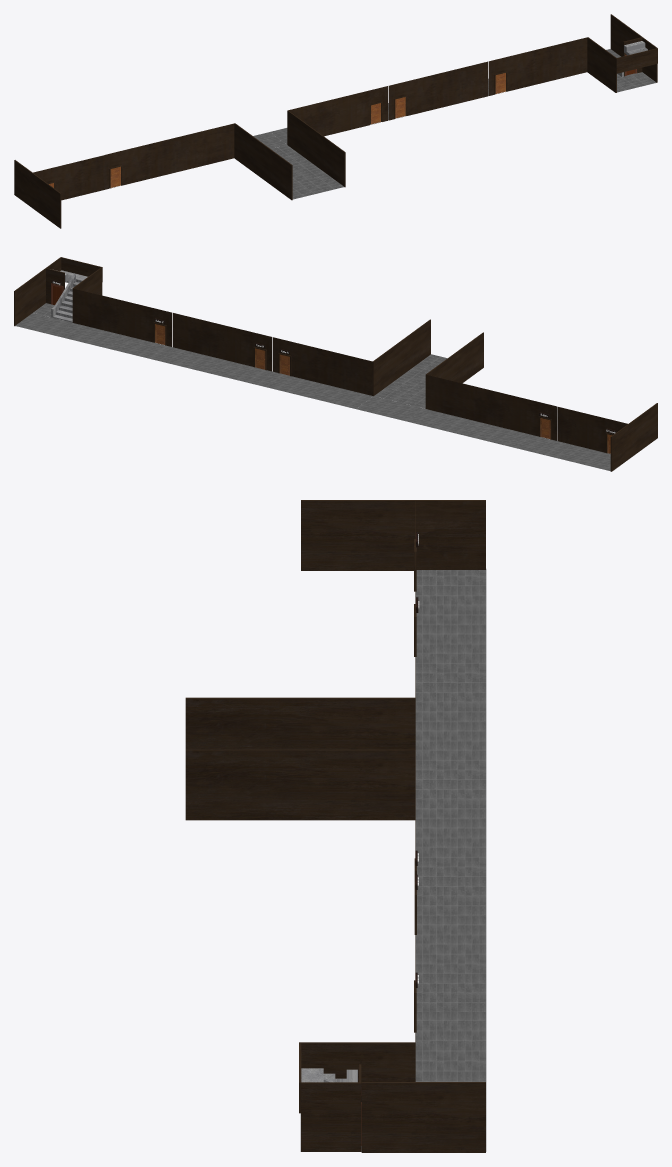
Rendered from interior_lorong.fbx.
3 views of the same model, one above another, from view 1: azimuth 30°, elevation 25°; view 2: azimuth 150°, elevation 25°; view 3: azimuth 270°, elevation 25° (orthographic). The views are drawn at different scales.
Visible parts, largest first — view 1: Cube.043, Cube.025, Cube.003, Cube.018, Cube.042, Cube.001, Cube.105, Cube.106, Plane.001, Cube.036, Cube.038, Cube.041 (+2 smaller); view 2: Cube.043, Cube.025, Cube.018, Cube.003, Cube.001, Cube.105, Plane.004, Plane.009, Plane.011, Plane.002, Plane.003, Cube.106 (+10 smaller); view 3: Cube.001, Cube.106, Cube.042, Cube.041, Plane.009, Plane.011, Plane.002, Plane.003, Plane.004, Cube.039, Cube.036, Plane.013.
Part boxes in pixels (box(x1,y1,x2,y2)): Cube.043: box(103, 123, 234, 189); Cube.025: box(488, 37, 587, 95); Cube.003: box(388, 61, 487, 120); Cube.018: box(288, 86, 387, 136); Cube.042: box(234, 123, 292, 200); Cube.001: box(287, 110, 345, 187); Cube.105: box(33, 155, 103, 200); Cube.106: box(14, 160, 61, 228); Plane.001: box(292, 166, 343, 199); Cube.036: box(587, 37, 616, 92); Cube.038: box(616, 48, 657, 73); Cube.041: box(610, 14, 641, 56); Cube.043: box(425, 374, 557, 440); Cube.025: box(72, 288, 172, 346); Cube.018: box(273, 337, 372, 395); Cube.003: box(173, 313, 272, 371); Cube.001: box(372, 319, 430, 396); Cube.105: box(558, 407, 627, 452); Plane.004: box(55, 323, 176, 360); Plane.009: box(356, 396, 472, 433); Plane.011: box(455, 420, 571, 457); Plane.002: box(257, 372, 373, 408); Plane.003: box(159, 348, 273, 384); Cube.106: box(610, 403, 657, 471); Cube.001: box(185, 749, 415, 820); Cube.106: box(301, 500, 485, 570); Cube.042: box(185, 697, 415, 749); Cube.041: box(361, 1082, 485, 1152); Plane.009: box(415, 721, 486, 818); Plane.011: box(415, 624, 486, 721); Plane.002: box(415, 818, 486, 915); Plane.003: box(415, 915, 486, 1011); Plane.004: box(415, 1012, 486, 1110); Cube.039: box(301, 1082, 361, 1151); Cube.036: box(301, 1042, 415, 1085); Plane.013: box(415, 569, 486, 624).
Bounding box in the file's own units: 120 × 26.21 × 6.74.
12 materials, 8 textured.
